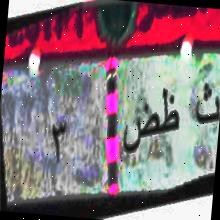3: (45, 102, 76, 178)
Thaa: (156, 80, 186, 144)
daad: (119, 99, 159, 165)
thaa: (190, 74, 220, 134)
